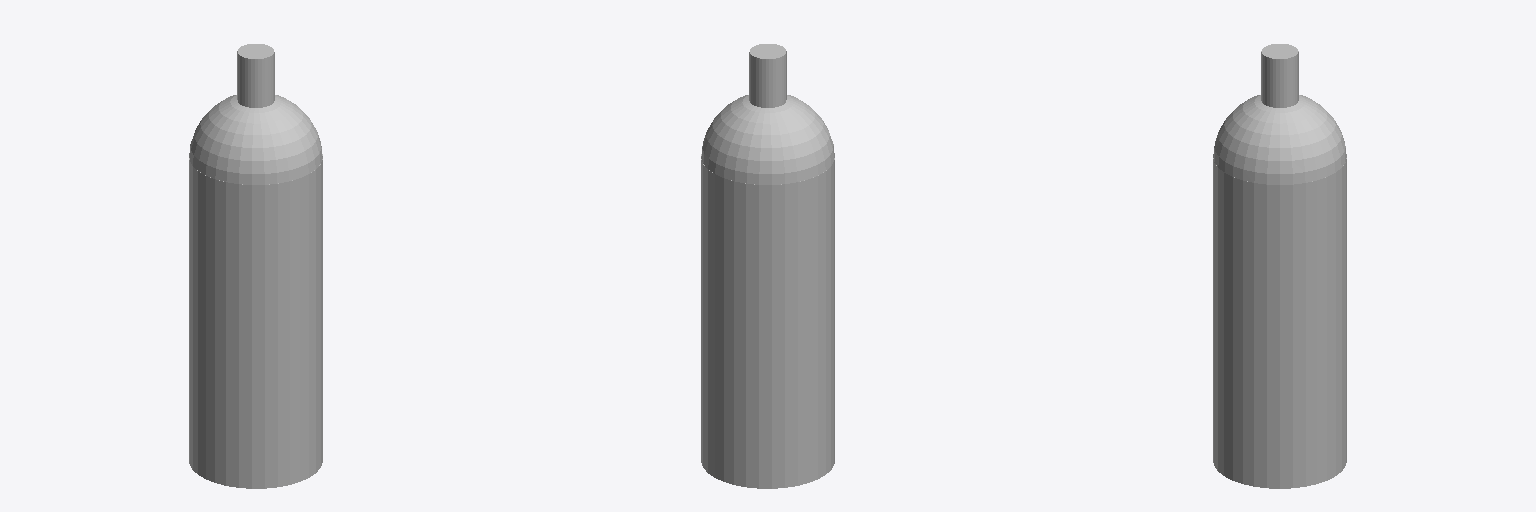
File: mybottle1.obj
3 views of the same model, side by side, from view 1: azimuth 30°, elevation 25°; view 2: azimuth 150°, elevation 25°; view 3: azimuth 270°, elevation 25° (orthographic).
Parts seen in each view (by area): view 1: Cylinder.001; view 2: Cylinder.001; view 3: Cylinder.001.
Boxes of the visible parts, x1,y1,x2,y2 form: Cylinder.001: [189, 44, 322, 488]; Cylinder.001: [701, 44, 834, 488]; Cylinder.001: [1213, 44, 1346, 488].
Bounding box in the file's own units: 0.072 × 0.2426 × 0.072.